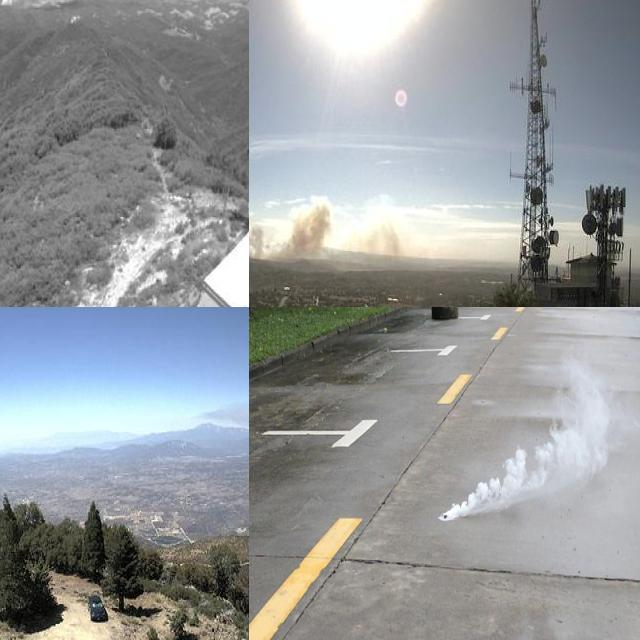smoke: (438, 353, 640, 522), (249, 188, 420, 260), (194, 389, 249, 457)
